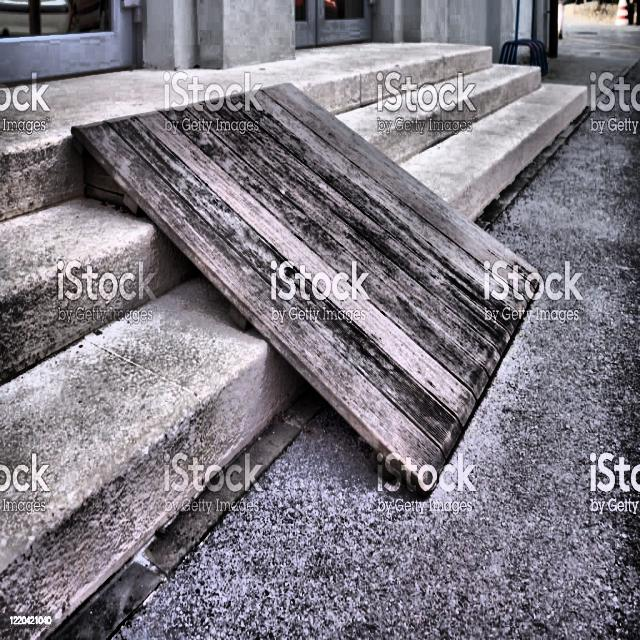escada: (1, 150, 290, 640), (297, 41, 586, 223)
